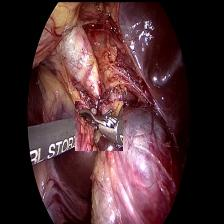Scissors: (74, 100, 122, 150)
